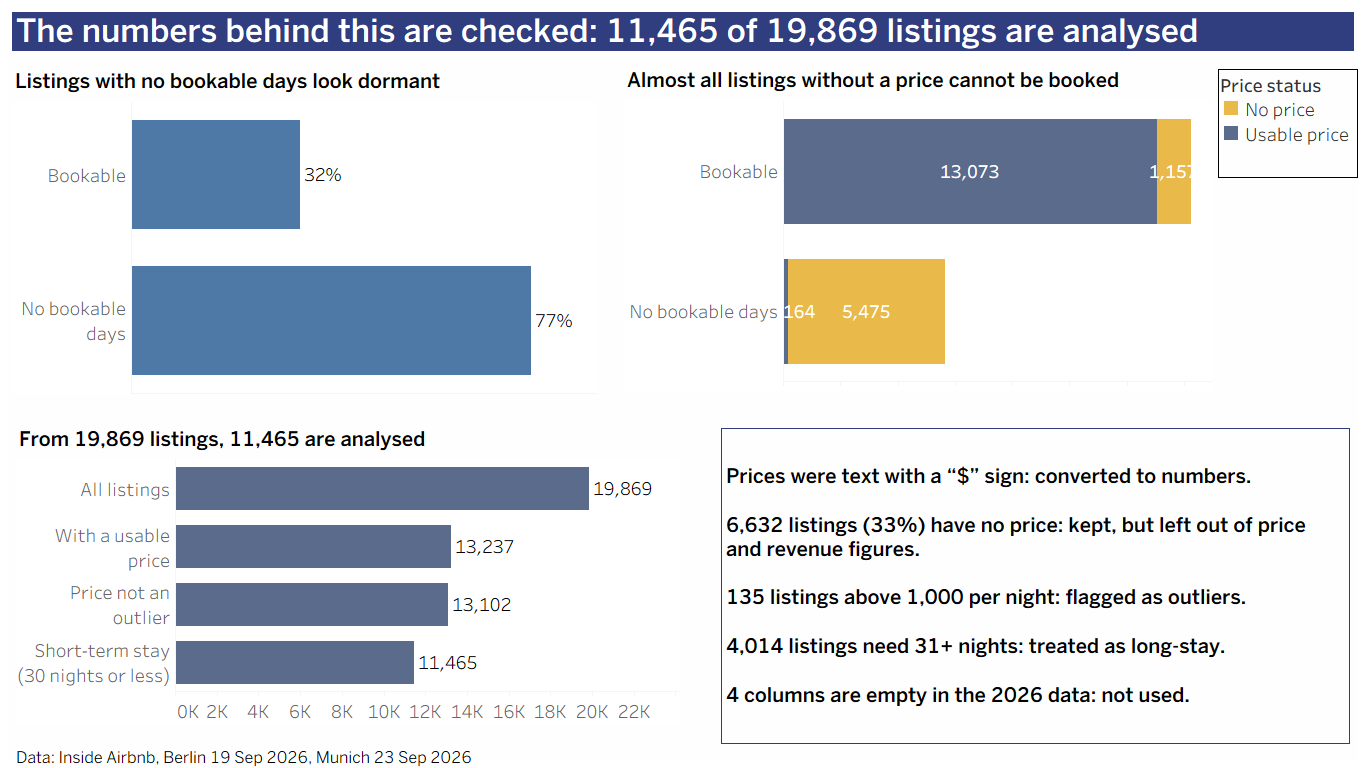

This screenshot's page, from the dashboard's own definition file:
{"tool":"tableau","page":{"name":"Data Quality","canvas":[1366,768],"ordinal":0},"visuals":[{"type":"text","box":[8,8,1350,47]},{"type":"worksheet","title":"Price by booking status","mark":"Automatic","rows":["booking_status"],"cols":["listing_id"],"box":[623,62,588,329]},{"type":"worksheet","title":"Dormant listings","mark":"Automatic","rows":["booking_status"],"cols":["Calculation_0040189082832898"],"box":[11,63,586,330]},{"type":"legend","title":"Price by booking status","param":"[federated.1whifg50nlmzdo1as0f4o07c01ew].[none:Calculation_0040189078310913:nk]","box":[1218,69,140,109]},{"type":"worksheet","title":"Data funnel","mark":"Automatic","rows":["stage"],"cols":["listings"],"box":[15,421,663,302]},{"type":"text","box":[721,428,629,316]},{"type":"text","box":[12,747,1347,20]}]}

Visuals, with their boxes in screenshot pixels (x1, y1, x2, y2), scaled from the page's 1366x768 canvas onto the 1366x768 screenshot:
text: locate(8, 8, 1358, 55)
"Price by booking status" worksheet: locate(623, 62, 1211, 391)
"Dormant listings" worksheet: locate(11, 63, 597, 393)
"Price by booking status" legend: locate(1218, 69, 1358, 178)
"Data funnel" worksheet: locate(15, 421, 678, 723)
text: locate(721, 428, 1350, 744)
text: locate(12, 747, 1359, 767)
